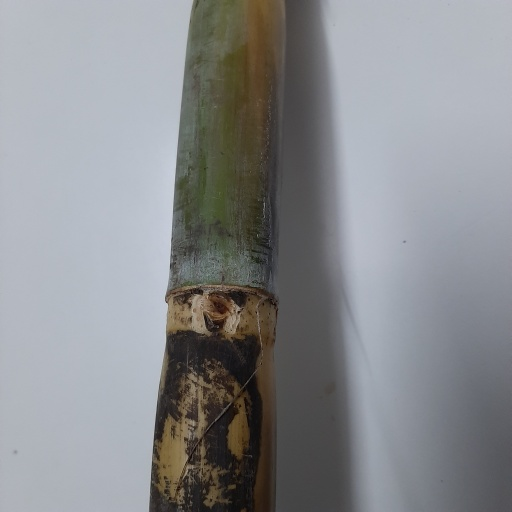Damage_Bud: (202, 292, 234, 333)
